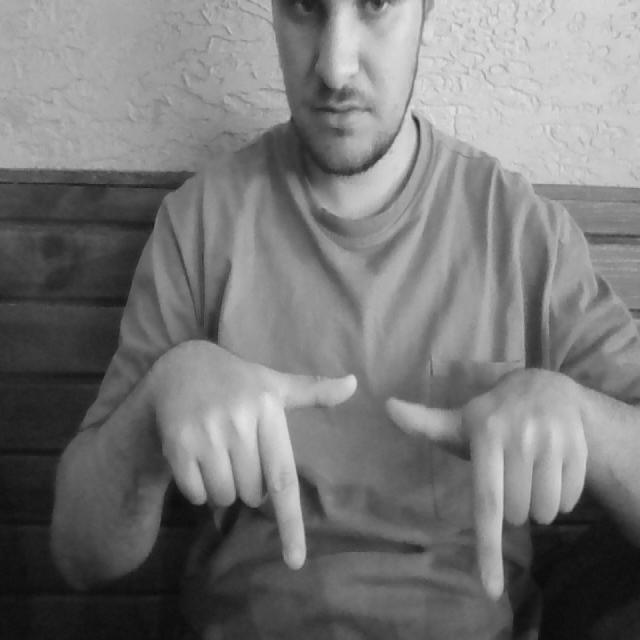Nerede: (241, 353, 516, 604)
